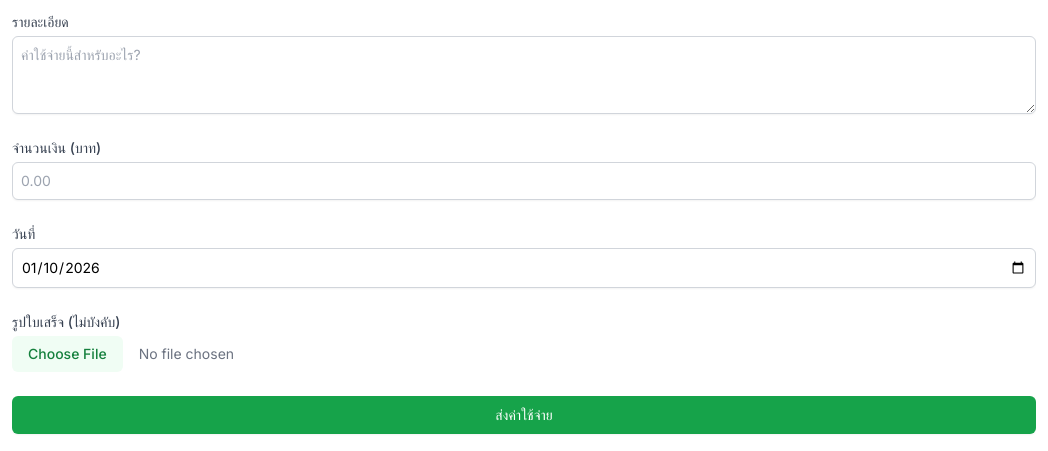
ExpenseForm › should show loading state while submitting
Type "Test" into the text box labelled "รายละเอียด". click: (524, 75)
box: 12,36 -> 1036,114
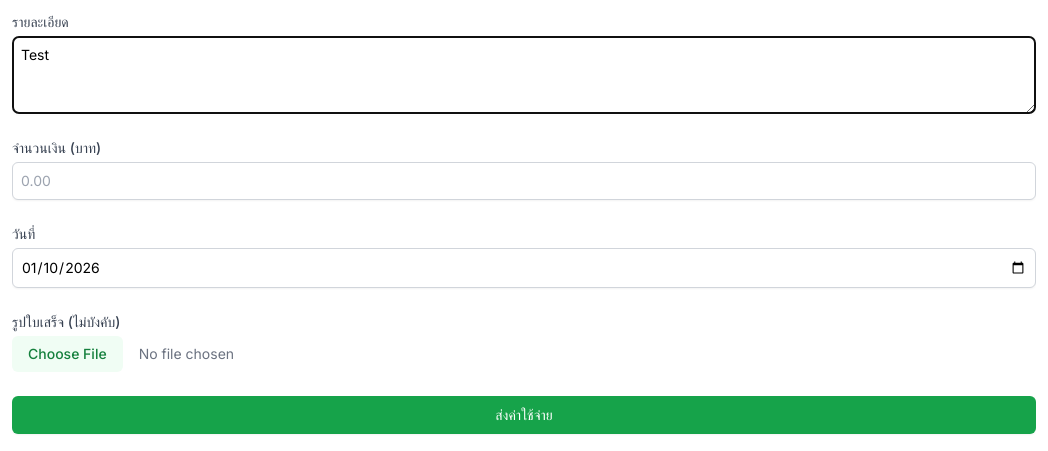
Type "100" into the number field labelled "จำนวนเงิน (บาท)". click: (524, 181)
box: 12,162 -> 1036,200
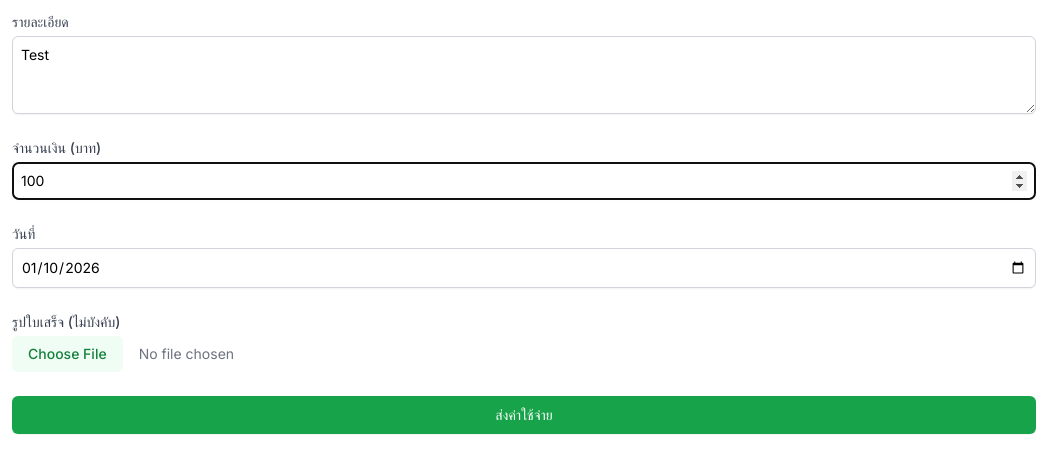
Click the button "ส่งค่าใช้จ่าย". click: click(524, 415)
box: 12,396 -> 1036,434
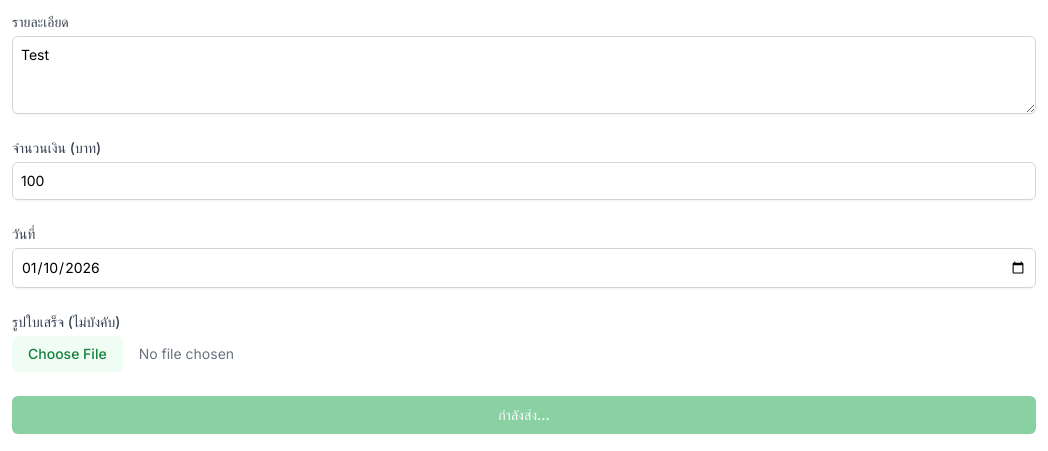
Now the button "กำลังส่ง..." is shown, box 12,396 -> 1036,434
